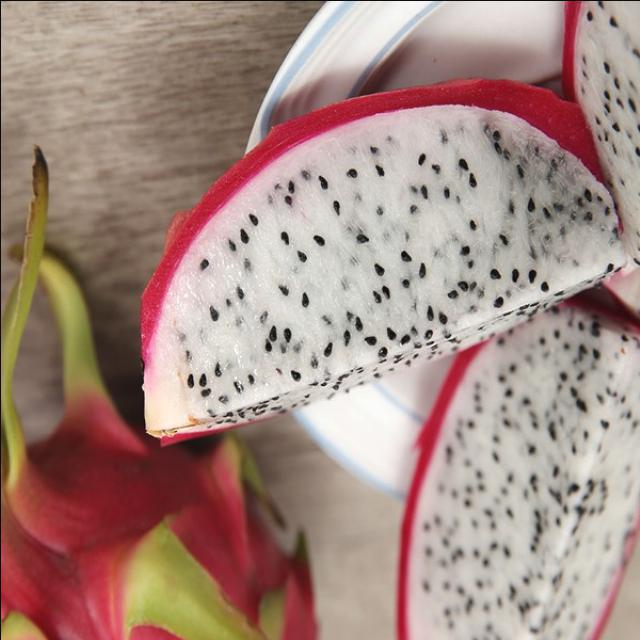trang: (134, 79, 615, 444), (1, 146, 330, 639), (381, 309, 639, 639), (561, 1, 639, 316)
